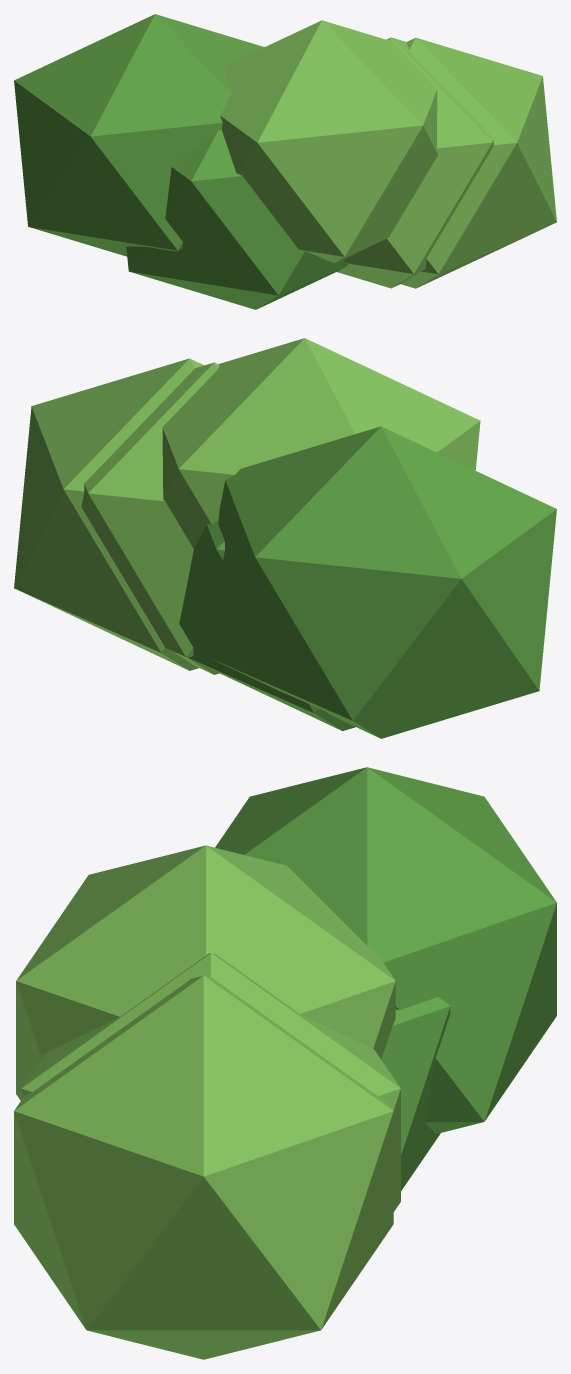
Rendered from Bush.fbx.
The picture shows the model from 3 angles, top to bottom: view 1: azimuth 30°, elevation 25°; view 2: azimuth 150°, elevation 25°; view 3: azimuth 270°, elevation 25°; orthographic projection. The views are drawn at different scales.
Parts seen in each view (by area): view 1: Bush; view 2: Bush; view 3: Bush.
Boxes of the visible parts, x1=… form: Bush: x1=14, y1=14, x2=556, y2=309; Bush: x1=14, y1=338, x2=556, y2=738; Bush: x1=14, y1=767, x2=556, y2=1359.
Size of the model in its own units: 1.46 by 0.8806 by 0.9733.
